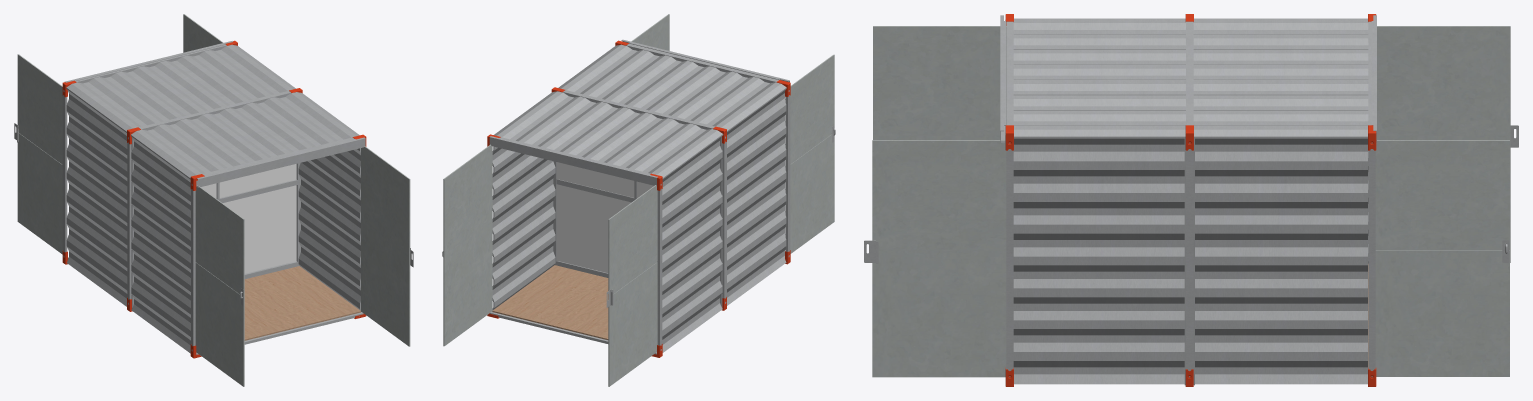
The model's file is 6D_opened.glb.
3 views of the same model, side by side, from view 1: azimuth 30°, elevation 25°; view 2: azimuth 150°, elevation 25°; view 3: azimuth 270°, elevation 25° (orthographic). The views are drawn at different scales.
Visible parts, largest first — view 1: leftWall, ceiling.001, leftSideDoorWing.001, rightSideDoorWing.001, leftSideDoorWing, rightWall.001, interiorWall, floorPlan.001, gutter, rimFront, middleRim, backRim (+3 smaller); view 2: leftWall, ceiling.001, leftSideDoorWing.001, rightWall.001, leftSideDoorWing, interiorWall, floorPlan.001, gutter.001, backRim, rimFront, middleRim, rightSideDoorWing.001 (+2 smaller); view 3: rightWall.001, leftSideDoorWing.001, ceiling.001, rightSideDoorWing.001, leftSideDoorWing, rimFront, middleRim, backRim, Cube.007, gutter, gutter.001.
Part boxes in pixels (bbox=[...]): leftWall: bbox=[66, 90, 190, 353]; ceiling.001: bbox=[66, 44, 359, 179]; leftSideDoorWing.001: bbox=[14, 14, 223, 254]; rightSideDoorWing.001: bbox=[361, 146, 410, 346]; leftSideDoorWing: bbox=[195, 185, 244, 386]; rightWall.001: bbox=[298, 148, 360, 310]; interiorWall: bbox=[201, 164, 296, 273]; floorPlan.001: bbox=[68, 258, 360, 340]; gutter: bbox=[196, 137, 365, 187]; rimFront: bbox=[191, 137, 363, 355]; middleRim: bbox=[127, 91, 290, 304]; backRim: bbox=[62, 44, 226, 257]; leftWall: bbox=[662, 89, 786, 352]; ceiling.001: bbox=[494, 44, 786, 178]; leftSideDoorWing.001: bbox=[442, 144, 657, 386]; rightWall.001: bbox=[492, 146, 555, 309]; leftSideDoorWing: bbox=[785, 54, 834, 253]; interiorWall: bbox=[557, 162, 653, 272]; floorPlan.001: bbox=[492, 265, 608, 339]; gutter.001: bbox=[489, 136, 657, 185]; backRim: bbox=[490, 137, 662, 354]; rimFront: bbox=[626, 43, 790, 256]; middleRim: bbox=[563, 90, 726, 303]; rightSideDoorWing.001: bbox=[631, 14, 669, 50]; rightWall.001: bbox=[1013, 138, 1367, 384]; leftSideDoorWing.001: bbox=[1375, 26, 1518, 376]; ceiling.001: bbox=[1013, 18, 1368, 138]; rightSideDoorWing.001: bbox=[872, 140, 1006, 377]; leftSideDoorWing: bbox=[873, 26, 1006, 139]; rimFront: bbox=[1006, 21, 1013, 377]; middleRim: bbox=[1186, 21, 1193, 377]; backRim: bbox=[1368, 21, 1375, 377]; Cube.007: bbox=[1184, 138, 1194, 385]; gutter: bbox=[1000, 15, 1005, 142]; gutter.001: bbox=[1371, 15, 1376, 142].
Size of the model in its own units: 23.08 by 22.99 by 53.6.
18 materials, 14 textured.
